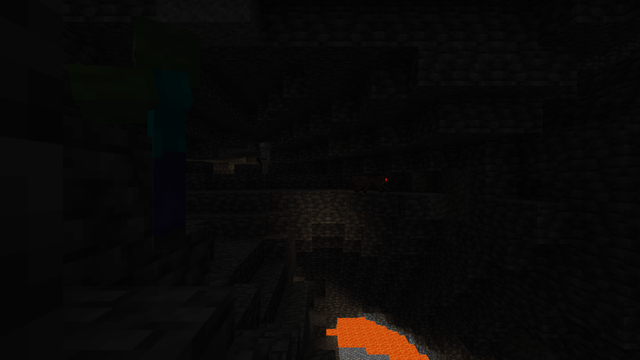araignees: (355, 173, 389, 192)
squelettes: (259, 142, 270, 173)
zombies: (109, 24, 209, 251)
